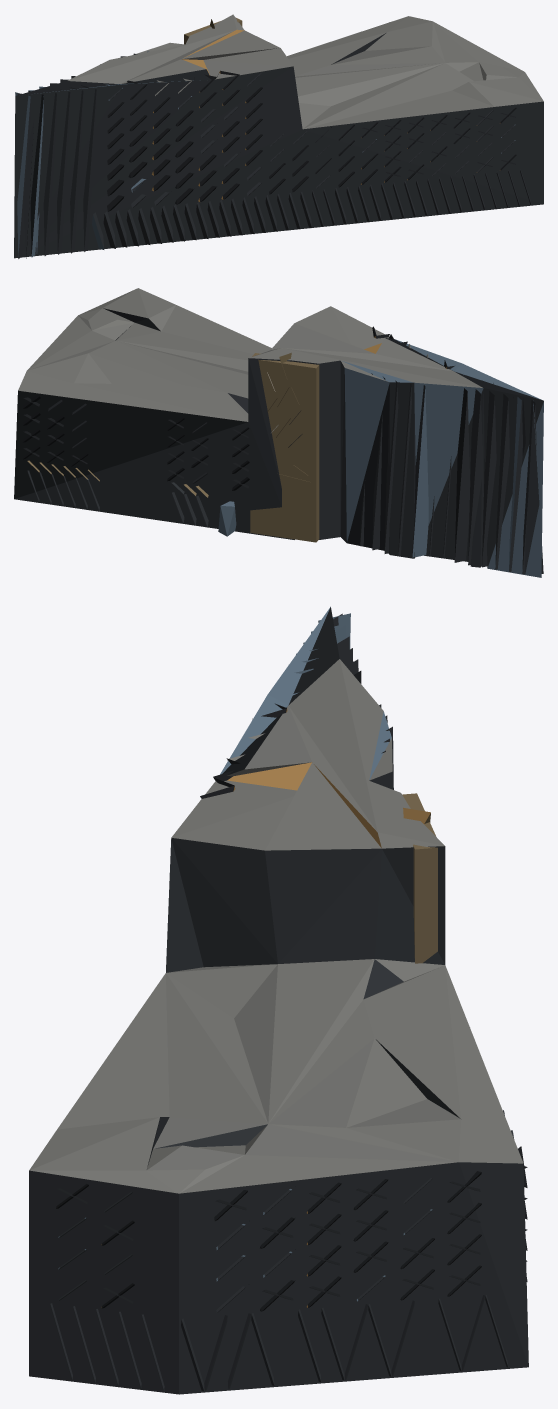
Rendered from hotel-jakarta.lod2.glb.
The picture shows the model from 3 angles, top to bottom: view 1: azimuth 30°, elevation 25°; view 2: azimuth 150°, elevation 25°; view 3: azimuth 270°, elevation 25°; orthographic projection. The views are drawn at different scales.
Visible parts, largest first — view 1: lod2; view 2: lod2; view 3: lod2.
Part boxes in pixels (x1,y1,x2,y2): lod2: (14,14,543,258); lod2: (14,288,543,577); lod2: (29,606,528,1394).
Bounding box in the file's own units: 96.38 × 32.9 × 44.12.
